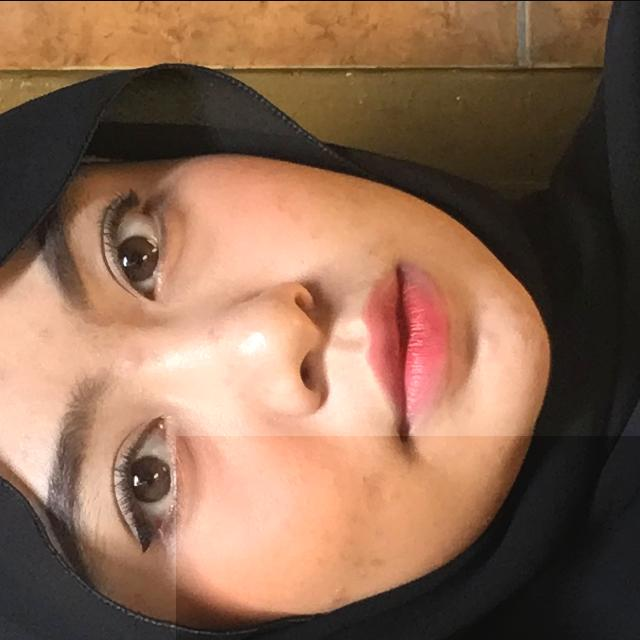ibu: (176, 435, 640, 640)
